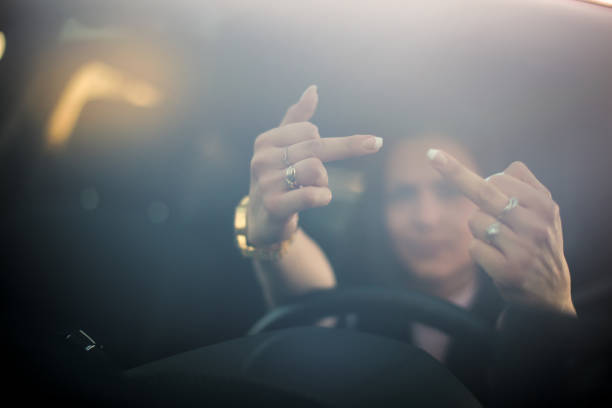insulting_gesture: (425, 142, 574, 303), (247, 79, 385, 241)
